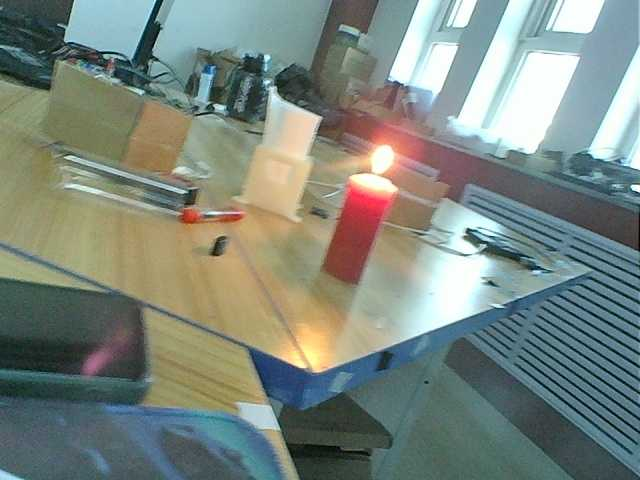candle: (318, 167, 393, 287)
fire: (353, 138, 401, 187)
